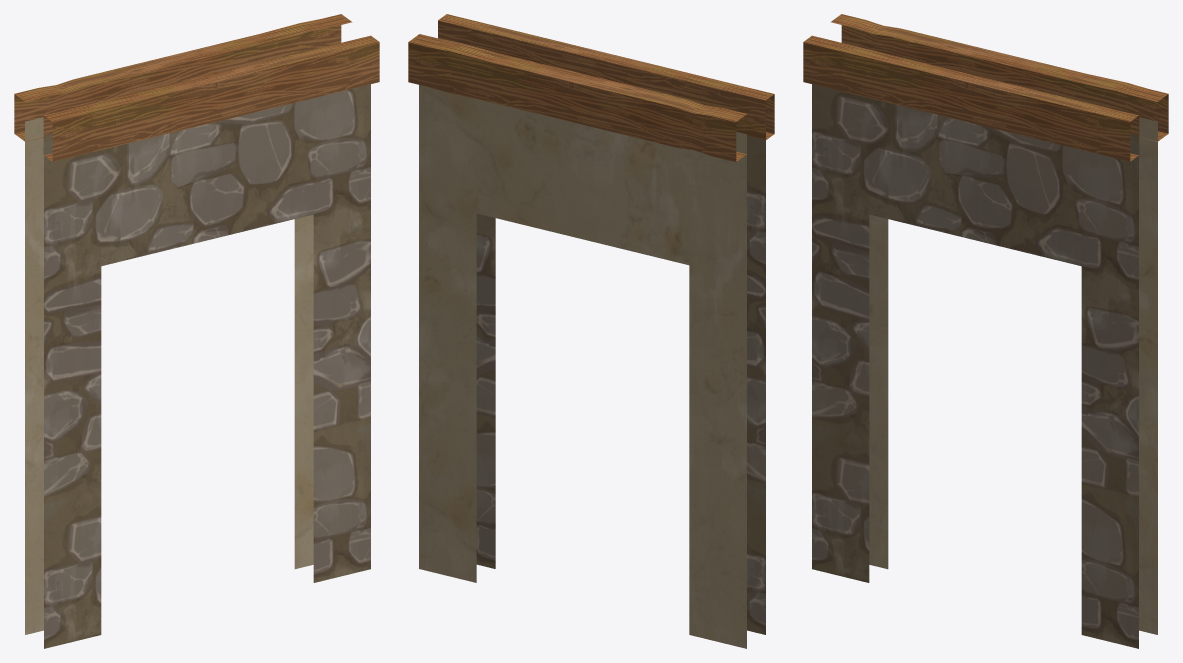
File: Wall_UnevenBrick_Door_Flat.gltf
3 views of the same model, side by side, from view 1: azimuth 30°, elevation 25°; view 2: azimuth 150°, elevation 25°; view 3: azimuth 330°, elevation 25° (orthographic).
Parts seen in each view (by area): view 1: Wall_UnevenBrick_Door_Flat; view 2: Wall_UnevenBrick_Door_Flat; view 3: Wall_UnevenBrick_Door_Flat.
Boxes of the visible parts, bbox=[...] form: Wall_UnevenBrick_Door_Flat: bbox=[14, 14, 379, 648]; Wall_UnevenBrick_Door_Flat: bbox=[408, 14, 774, 648]; Wall_UnevenBrick_Door_Flat: bbox=[803, 14, 1168, 648].
Bounding box in the file's own units: 2 × 3.12 × 0.4065.
Materials: 3 (3 with a texture image).
